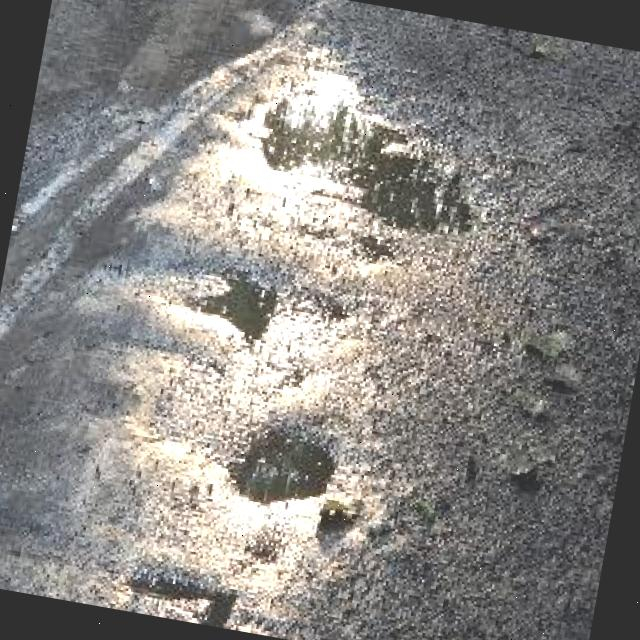stagnation: (256, 86, 485, 245)
